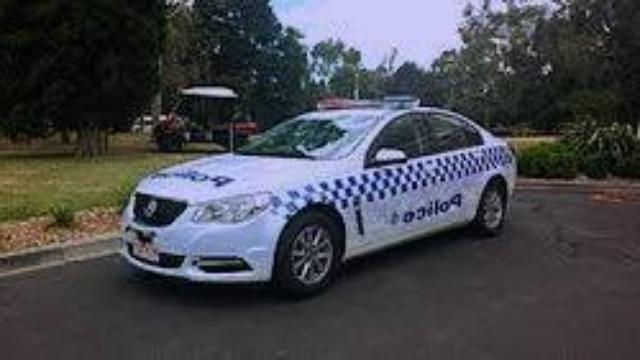police_car: (115, 97, 515, 297)
